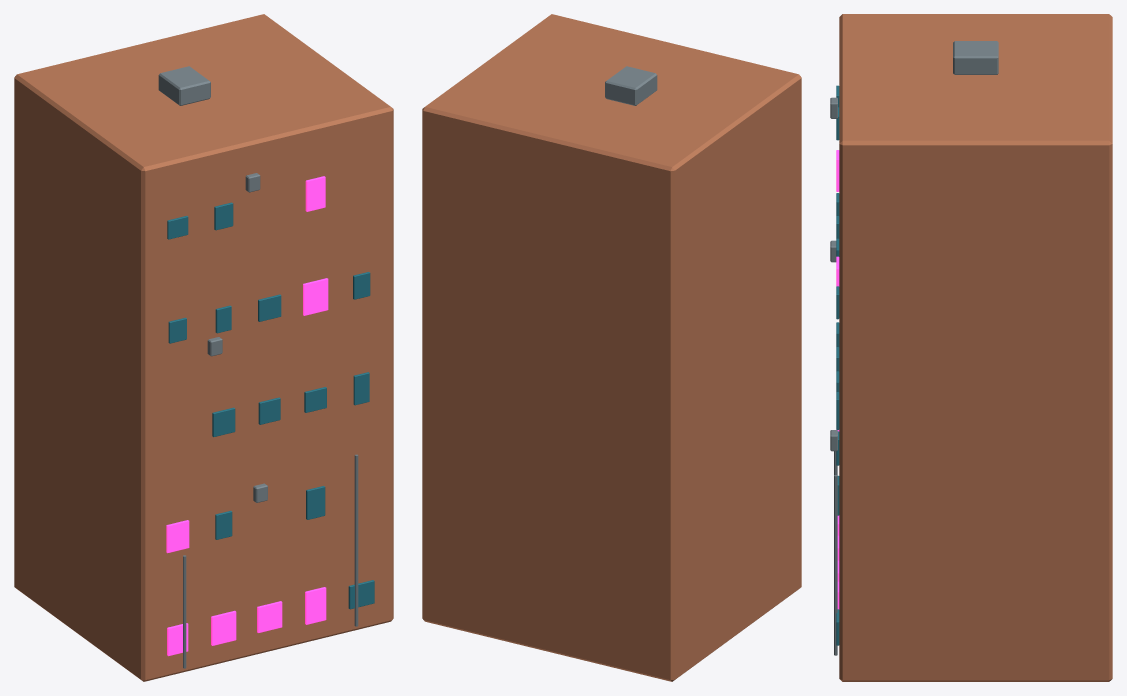
Rendered from building_038_seed11.glb.
3 views of the same model, side by side, from view 1: azimuth 30°, elevation 25°; view 2: azimuth 150°, elevation 25°; view 3: azimuth 270°, elevation 25° (orthographic). The views are drawn at different scales.
Visible parts, largest first — view 1: building_038_seed11; view 2: building_038_seed11; view 3: building_038_seed11.
Boxes of the visible parts, box(x1,y1,x2,y2) form: building_038_seed11: box(14, 14, 393, 681); building_038_seed11: box(422, 14, 801, 681); building_038_seed11: box(830, 14, 1112, 681).
Bounding box in the file's own units: 7.27 × 14.65 × 6.69.
